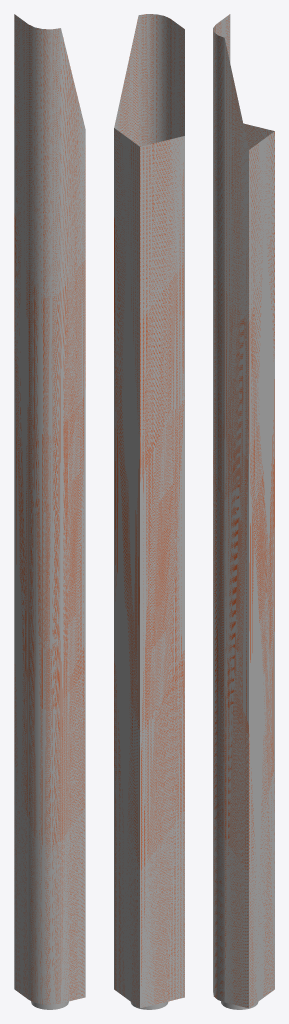
The picture shows the model from 3 angles, left to right: view 1: azimuth 30°, elevation 25°; view 2: azimuth 210°, elevation 25°; view 3: azimuth 330°, elevation 25°; orthographic projection.
Bounding box in the file's own units: 0.0289 × 0.6009 × 0.0289.
